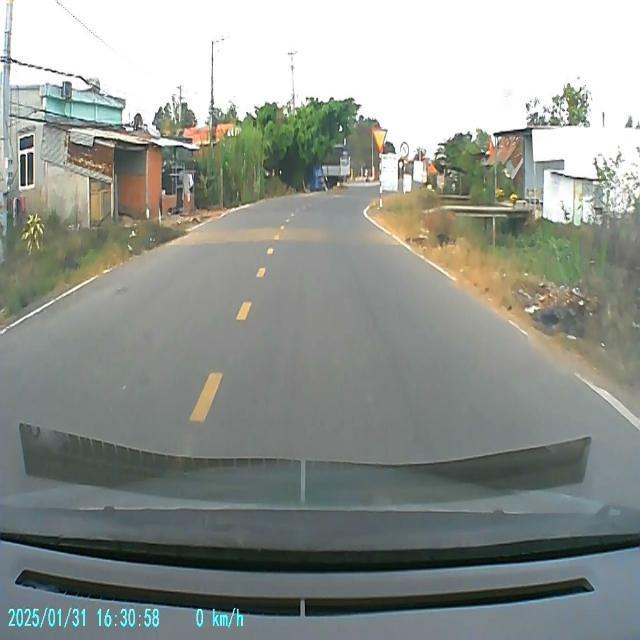208-giao-nhau-voi-duong-uu-tien: (372, 126, 388, 152)
